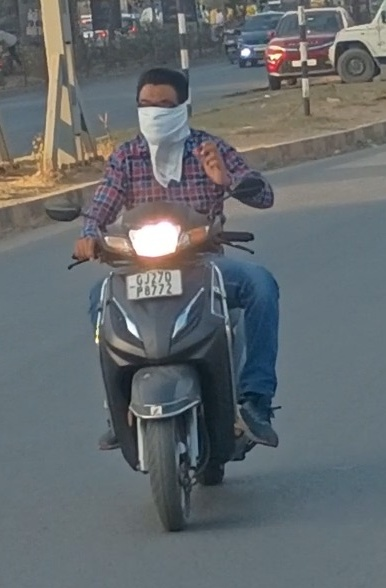BikeWithRider: (37, 61, 291, 538)
NoHelmet: (124, 61, 199, 148)
